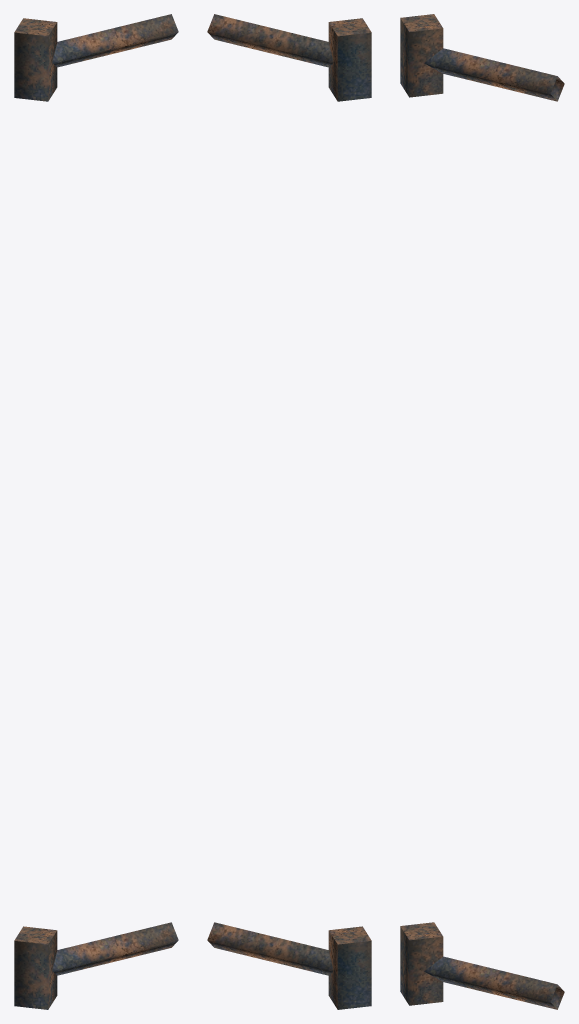
File: GateAHinge.fbx
3 views of the same model, side by side, from view 1: azimuth 30°, elevation 25°; view 2: azimuth 150°, elevation 25°; view 3: azimuth 330°, elevation 25° (orthographic).
Parts seen in each view (by area): view 1: GateAHinge; view 2: GateAHinge; view 3: GateAHinge.
Boxes of the visible parts, <box> form: GateAHinge: <box>14,14,178,1009</box>; GateAHinge: <box>207,14,371,1009</box>; GateAHinge: <box>400,14,564,1009</box>.
Bounding box in the file's own units: 31.83 × 188 × 8.71.
1 material, 1 textured.
